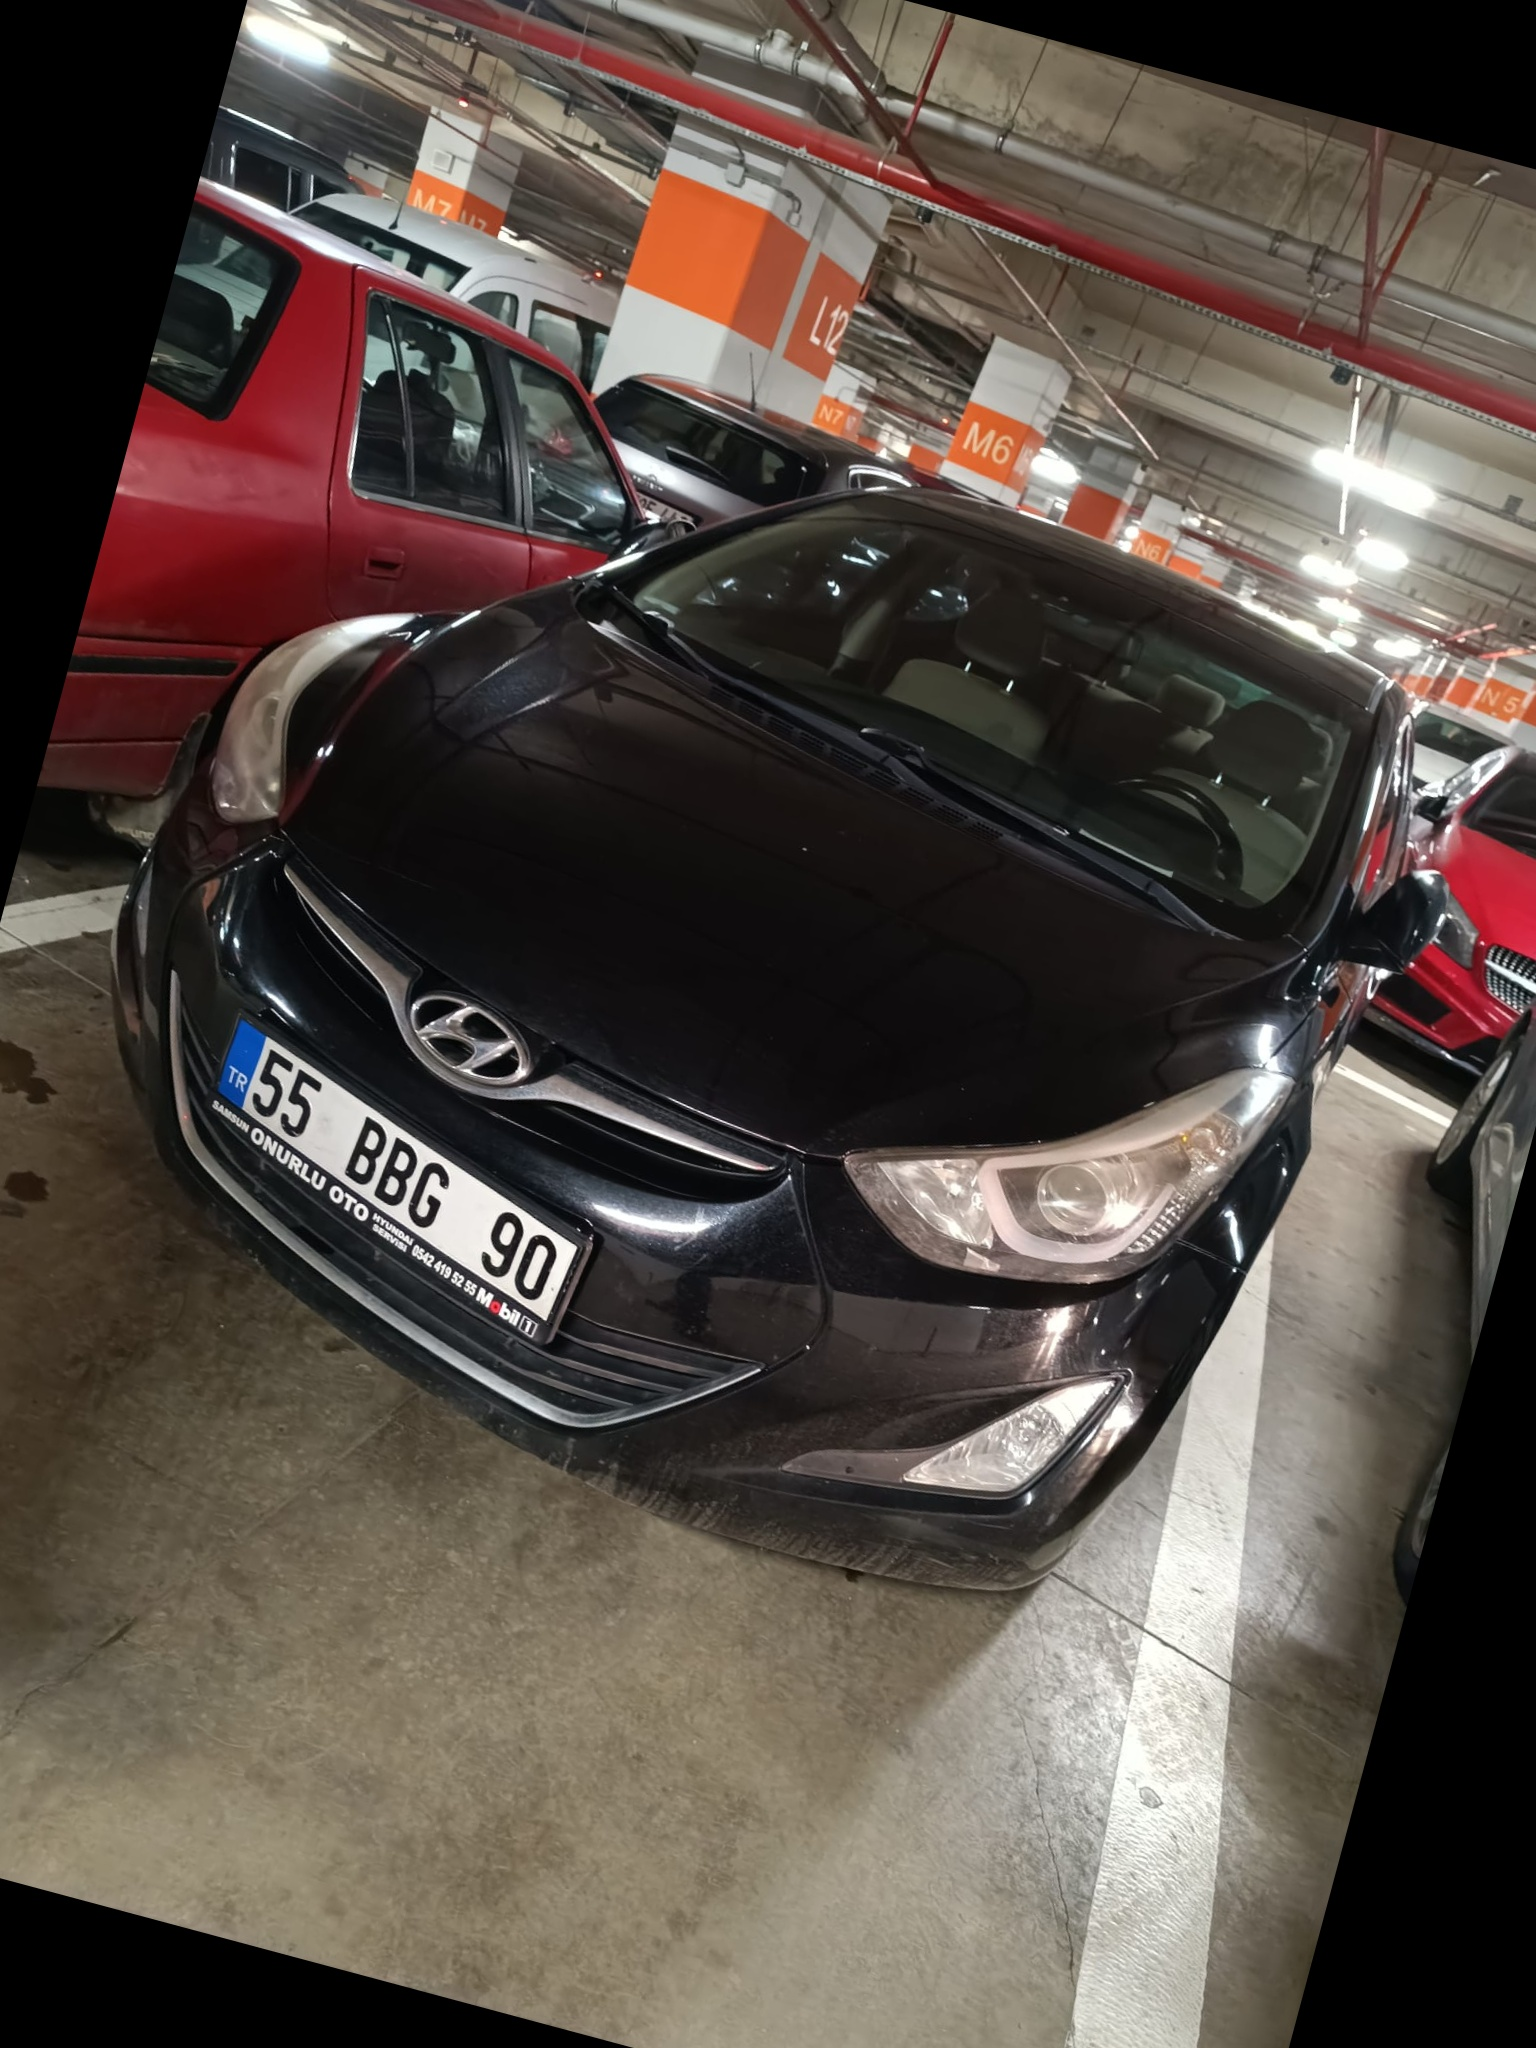plaka: (249, 1023, 564, 1316)
